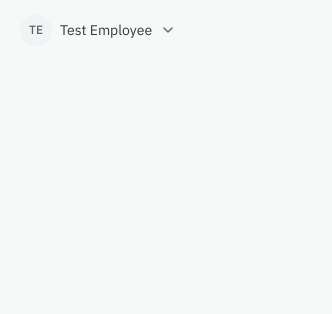
Test case: UserMenu › links to Profile and Sessions
Click the button named "user menu".
click(98, 30)  # box [12,12,184,48]
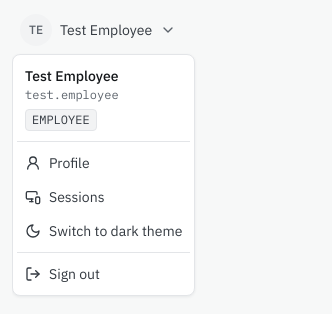
Now the menu item "Profile" is shown, box [25,154,90,172]
Now the menu item "Sessions" is shown, box [25,188,104,206]
